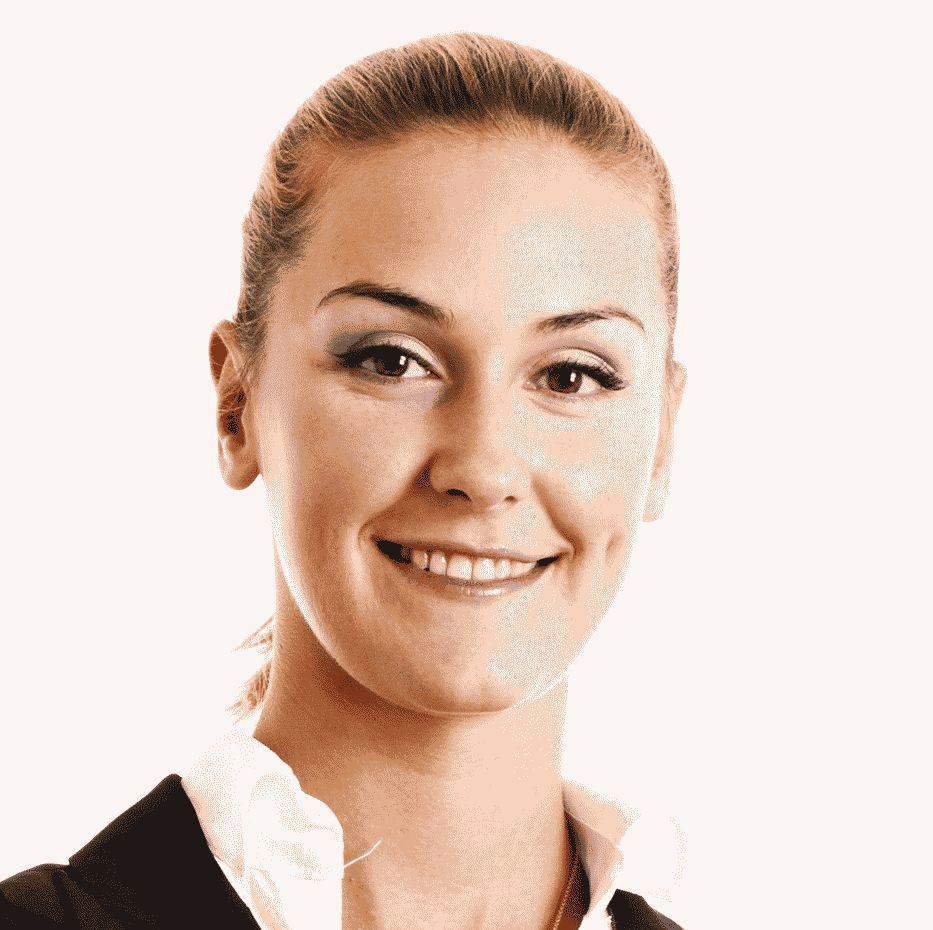Sober: (297, 158, 643, 700)
